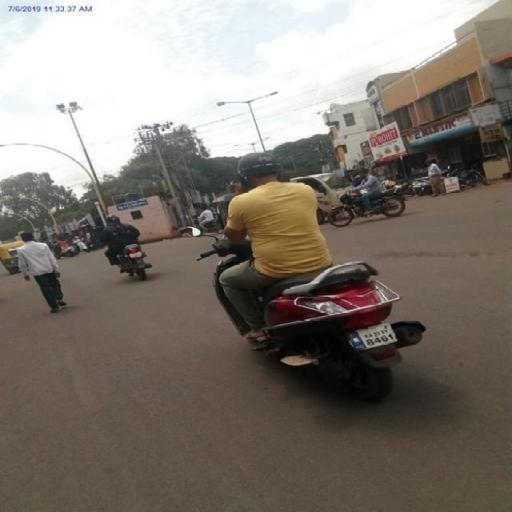using mobile: (234, 175, 252, 195)
